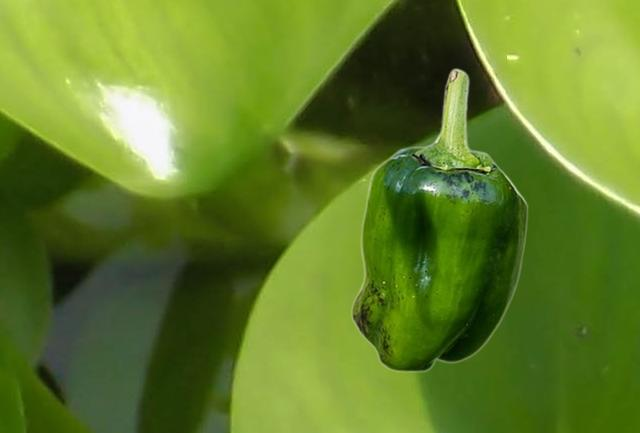bell_pepper: (350, 67, 527, 372)
